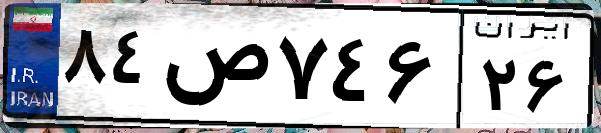2: (475, 38, 525, 113)
4: (330, 28, 385, 110), (110, 28, 158, 98)
6: (385, 28, 445, 110), (525, 38, 570, 115)
7: (270, 28, 330, 110)
8: (57, 26, 110, 100)
ص: (158, 20, 270, 120)
